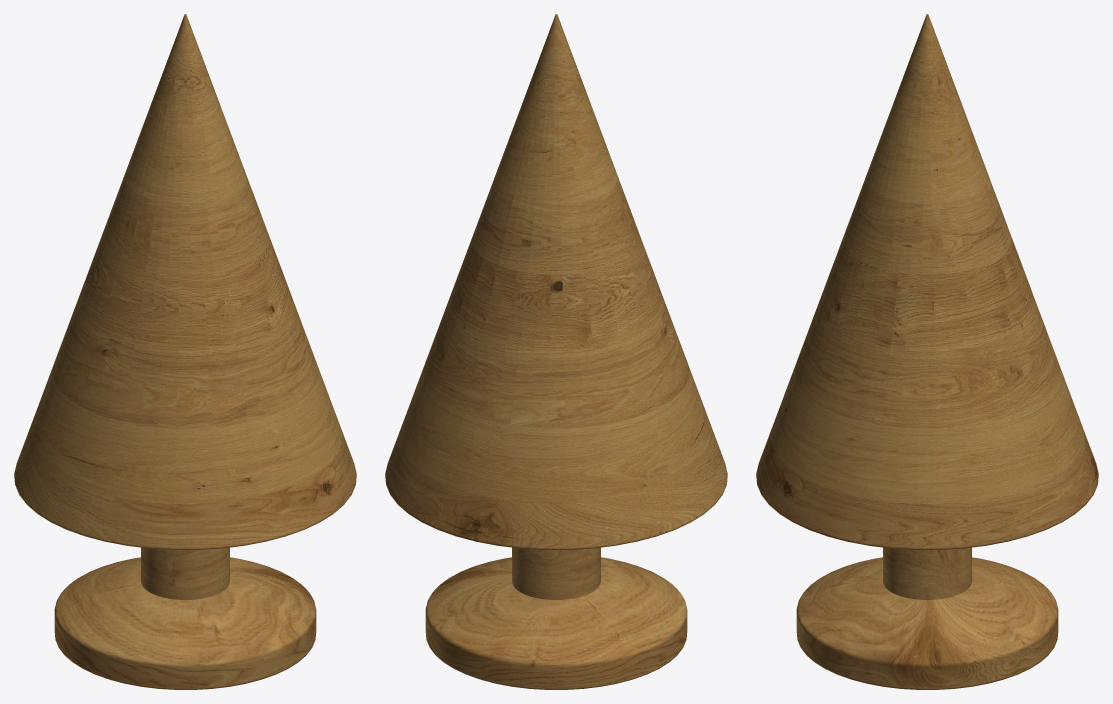
The model's file is Deco05.glb.
3 renders of one model, left to right at view 1: azimuth 30°, elevation 25°; view 2: azimuth 150°, elevation 25°; view 3: azimuth 270°, elevation 25°, orthographic.
Parts seen in each view (by area): view 1: BP_Deco05; view 2: BP_Deco05; view 3: BP_Deco05.
Part boxes in pixels (left/top/right/bottom): BP_Deco05: left=14, top=14, right=356, bottom=689; BP_Deco05: left=385, top=14, right=727, bottom=689; BP_Deco05: left=756, top=14, right=1098, bottom=689.
Size of the model in its own units: 0.052 by 0.1041 by 0.0521.
1 material, 1 textured.
